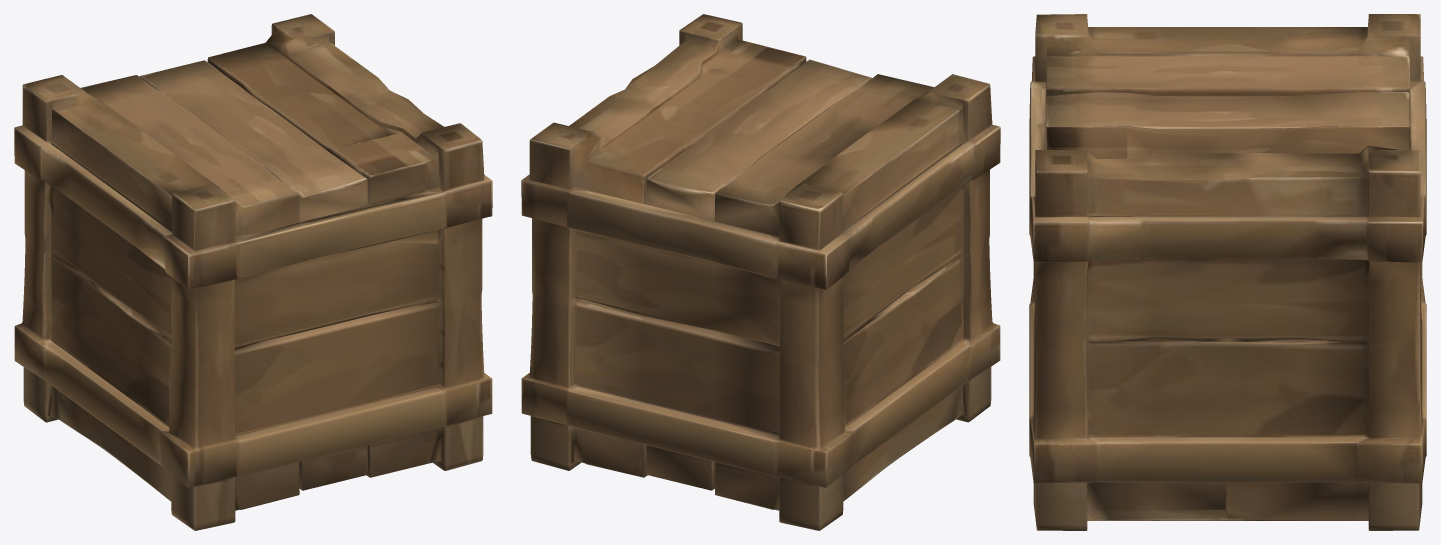
File: crate.glb
3 views of the same model, side by side, from view 1: azimuth 30°, elevation 25°; view 2: azimuth 150°, elevation 25°; view 3: azimuth 270°, elevation 25° (orthographic). The views are drawn at different scales.
Parts seen in each view (by area): view 1: model; view 2: model; view 3: model.
Part boxes in pixels (bbox=[...]): model: bbox=[14, 14, 492, 530]; model: bbox=[521, 14, 1000, 530]; model: bbox=[1029, 14, 1426, 530].
Size of the model in its own units: 1.89 by 1.91 by 1.91.
Materials: 1 (1 with a texture image).
